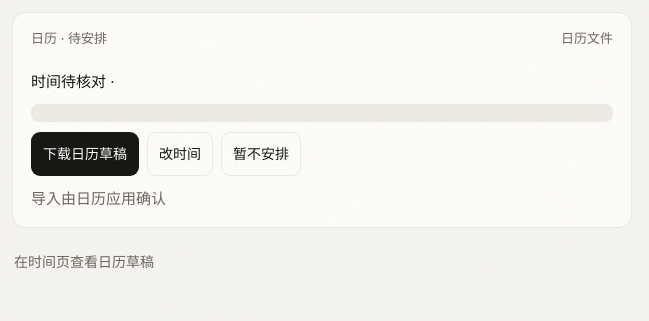
Test: Session calendar draft card › refuses an export when the source is revoked after the card first appears
The width and height of the screenshot is (649, 321).
Click the button "下载日历草稿": (85,154) [31, 132, 139, 176]
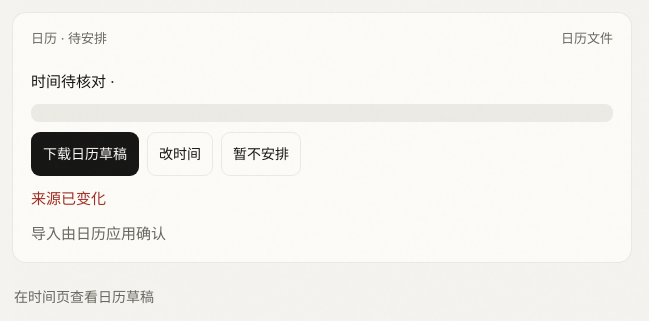
Now the text "来源已变化" is shown, box [31, 188, 106, 208]
